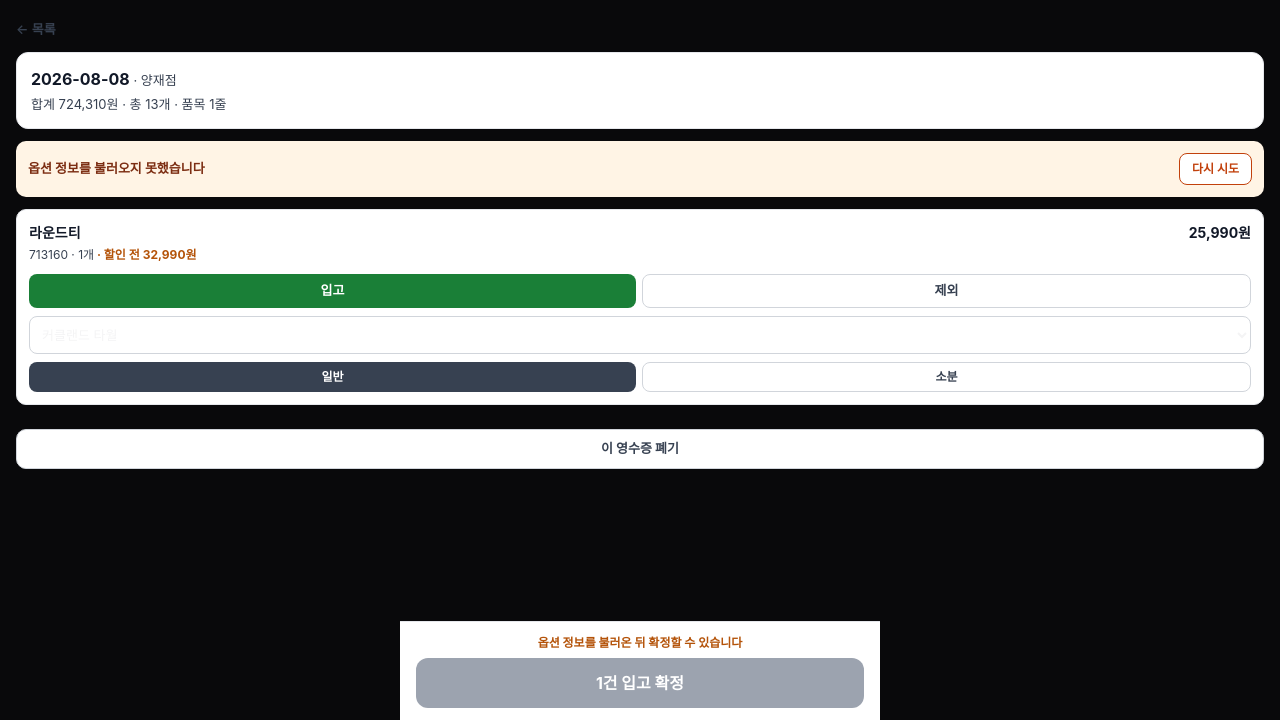
Scenario: ReceiptDetail › 🔴 옵션 정보를 못 불러오면 알리고 다시 시도할 수 있다 — 그동안 확정을 막는다
Expected: the text "옵션 정보를 불러오지 못했습니다" is shown, [28,159,205,179]
Expected: the button "1건 입고 확정" is disabled, [416,658,864,708]
Click the button "다시 시도": [1216, 169] box [1179,153,1252,185]
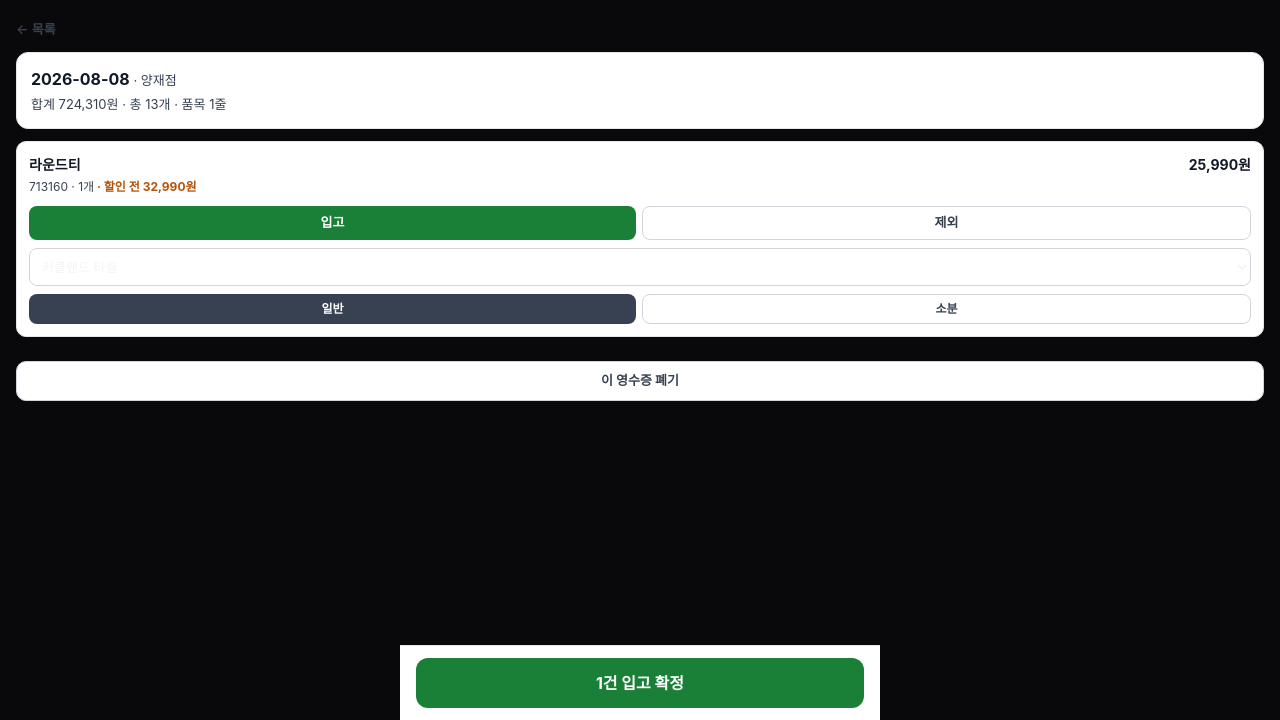
Expected: the text "옵션 정보를 불러오지 못했습니다" is gone
Expected: the button "1건 입고 확정" is enabled, [416,658,864,708]
